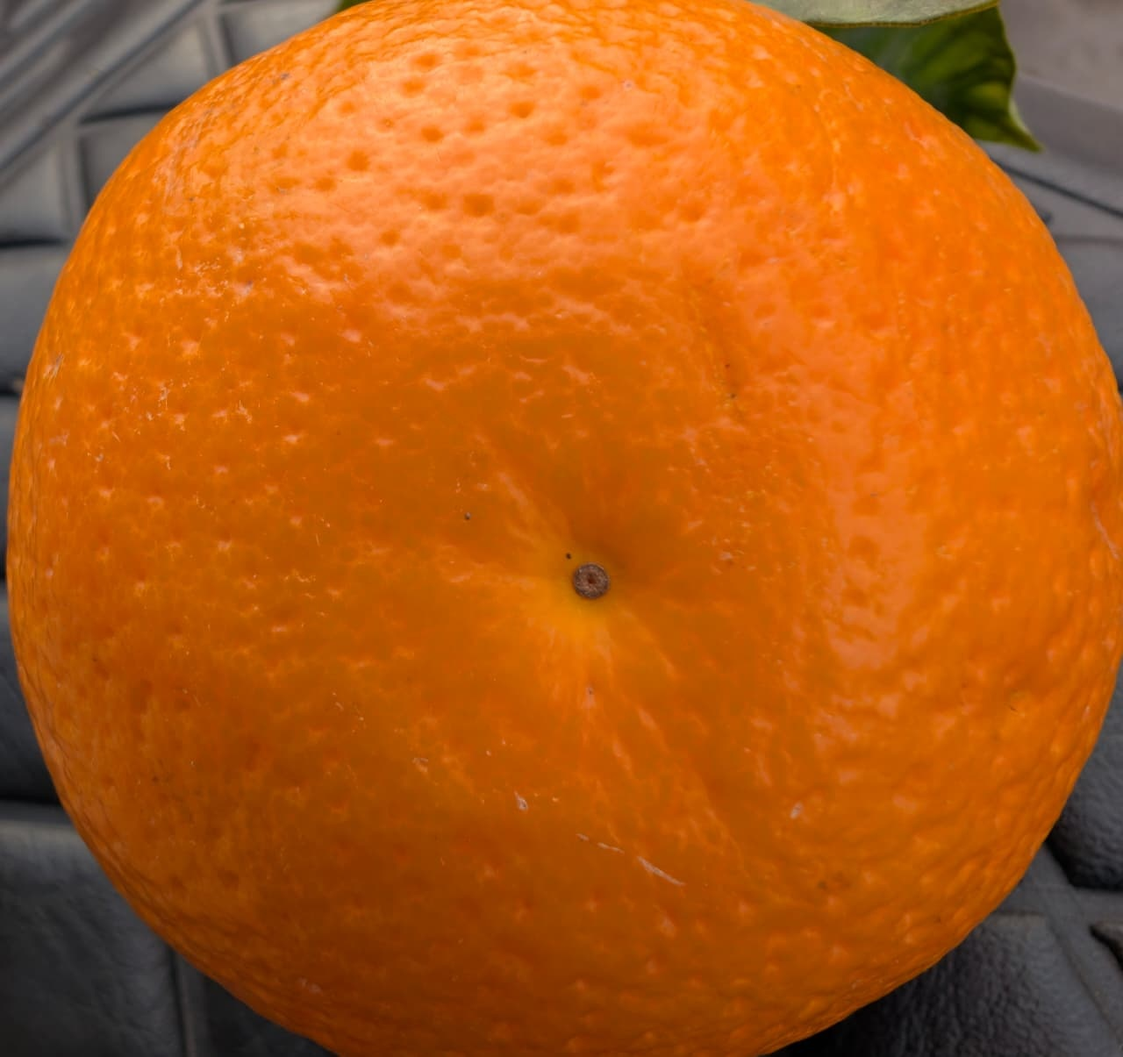orange: (88, 72, 881, 932)
